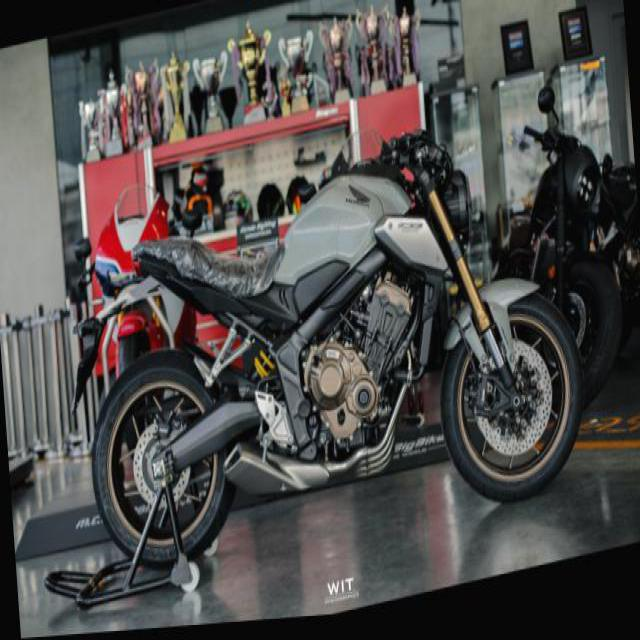CB650R: (72, 113, 590, 607)
